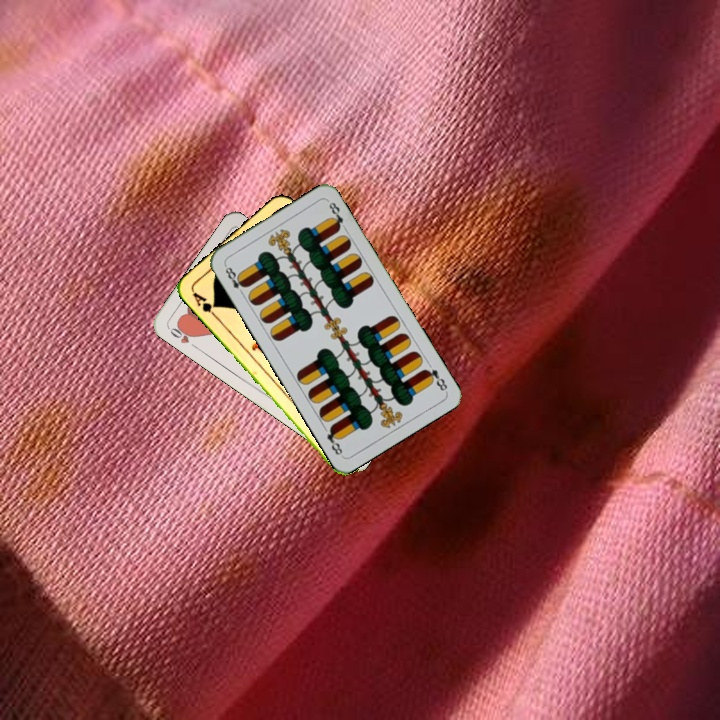E8: (221, 261, 249, 298), (420, 365, 450, 394)
GA: (188, 288, 220, 321)
HO: (165, 320, 200, 351)
